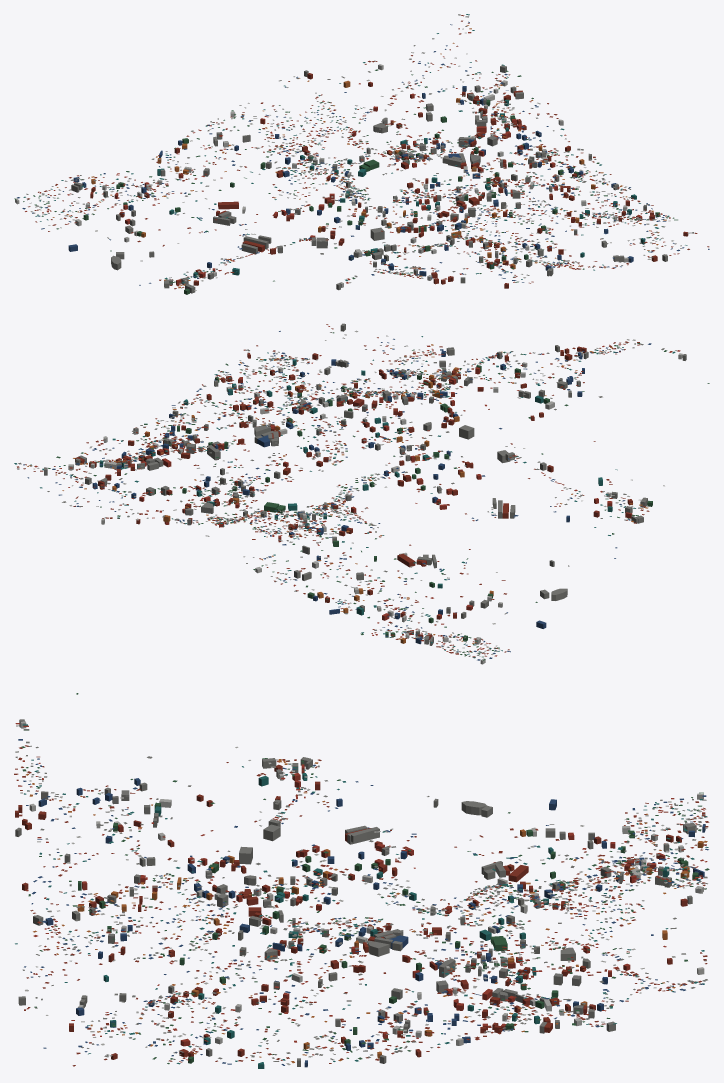
File: far-14-13679-7435.c61e642a.glb
3 views of the same model, one above another, from view 1: azimuth 30°, elevation 25°; view 2: azimuth 150°, elevation 25°; view 3: azimuth 270°, elevation 25° (orthographic). The views are drawn at different scales.
Bounding box in the file's own units: 2364 × 504 × 2348.
